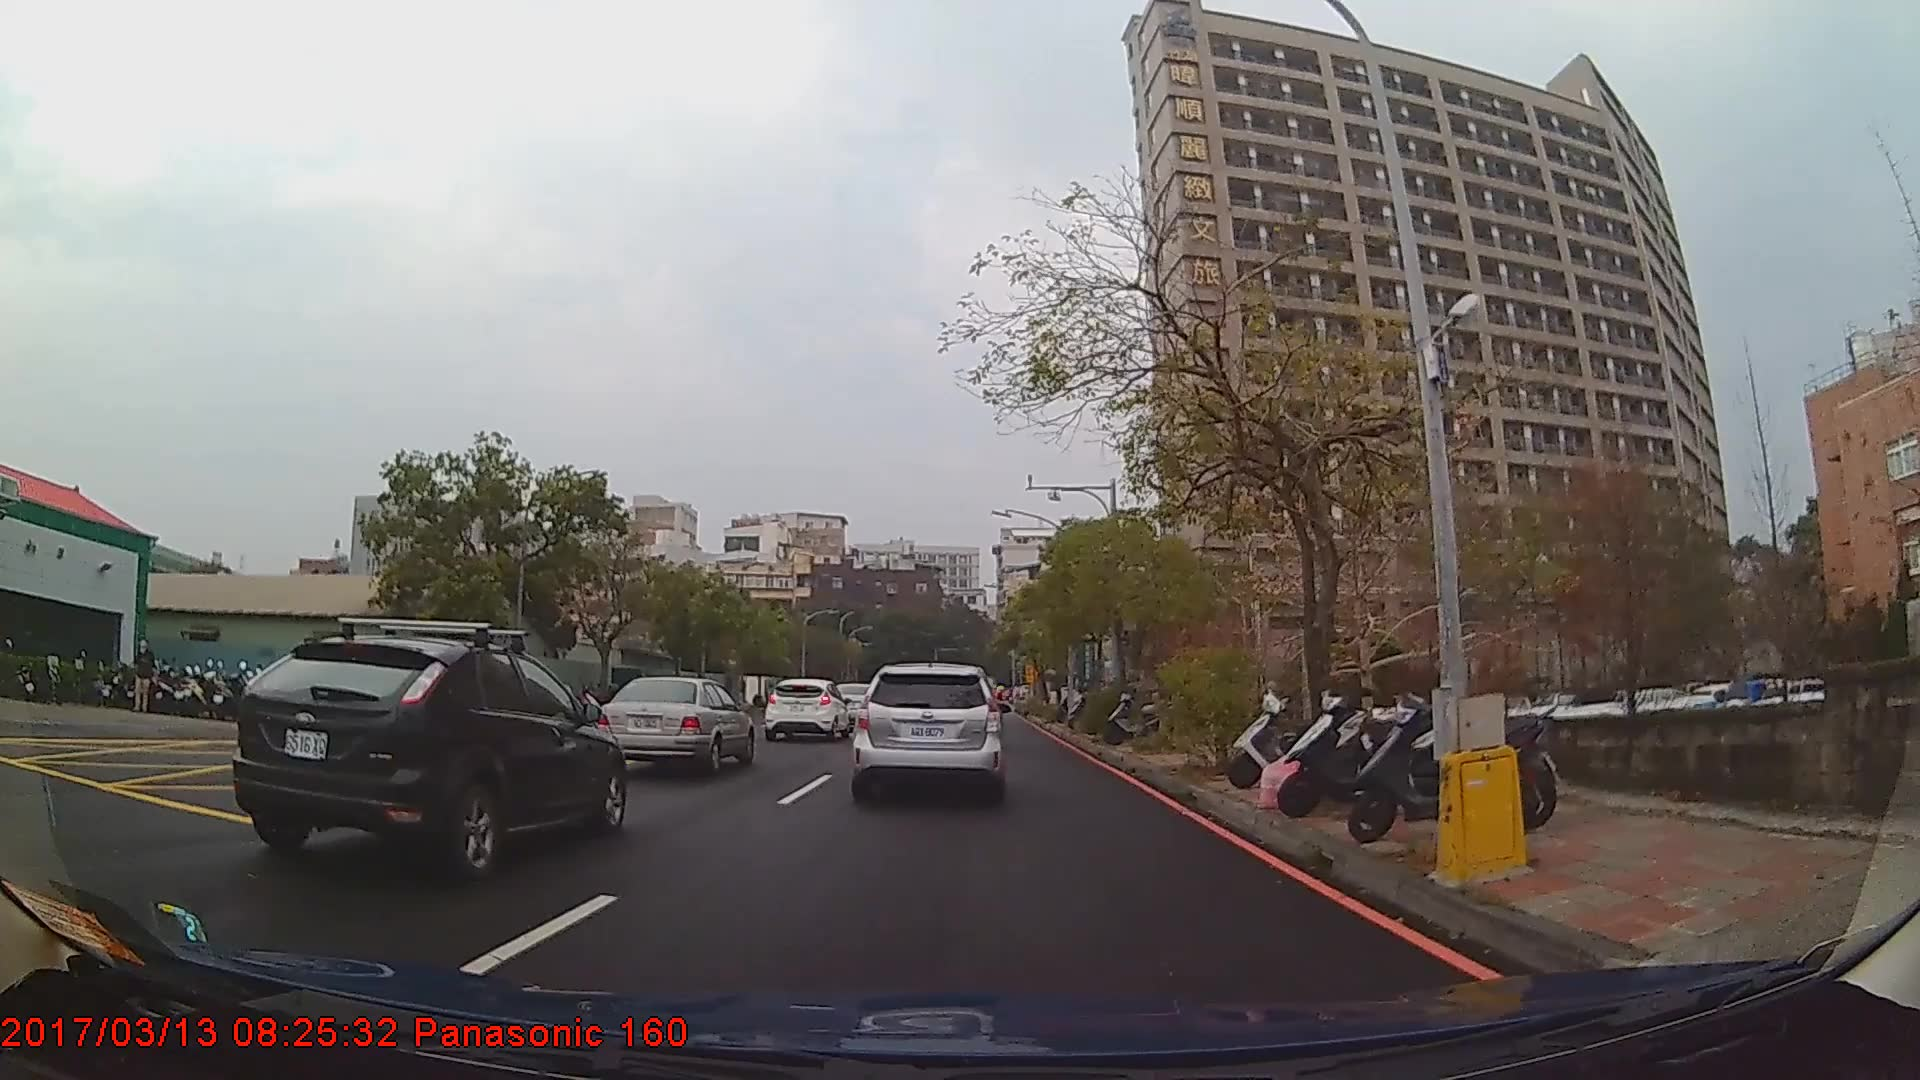pedestrian: (133, 639, 158, 714)
vehicle: (230, 631, 625, 872), (848, 659, 1001, 802), (593, 673, 753, 771), (761, 675, 851, 739)
